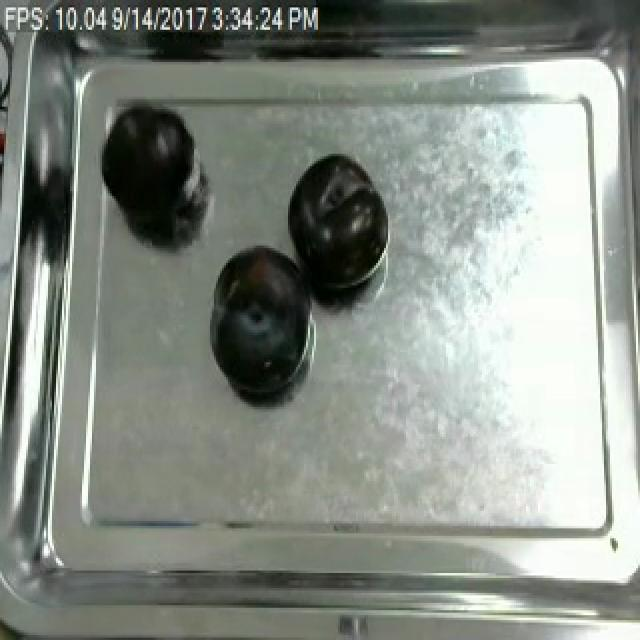Fruit: (204, 238, 314, 404), (284, 148, 388, 302), (96, 102, 200, 233)
